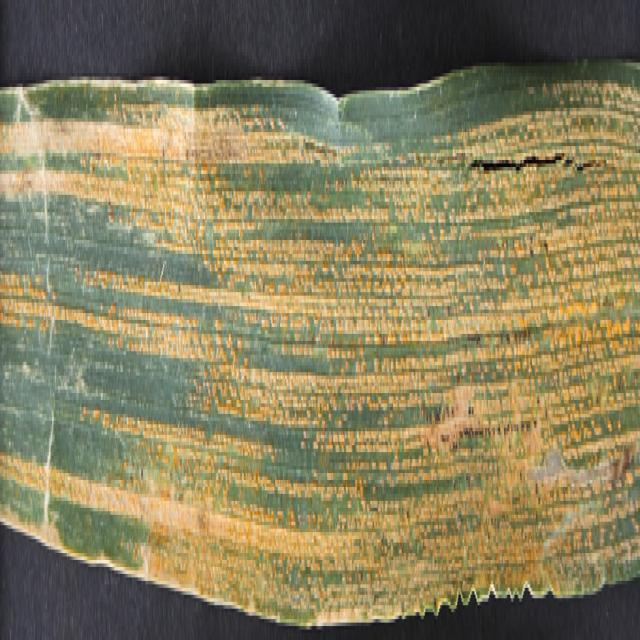leaf rust: (0, 66, 640, 608)
